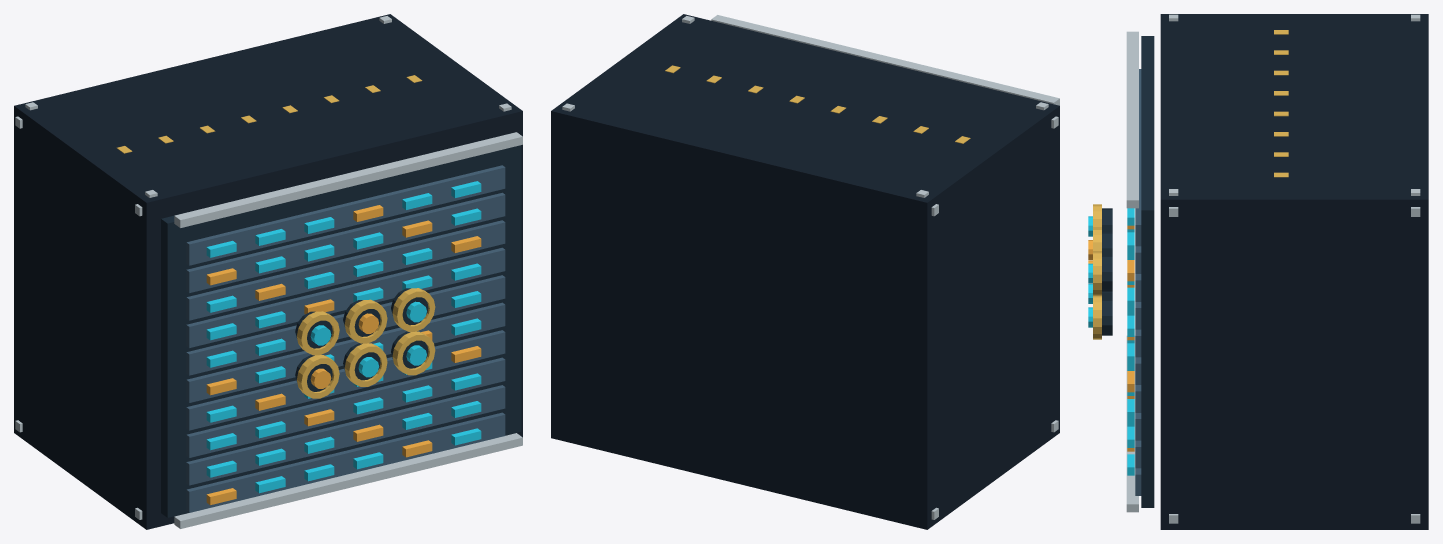
The model's file is 32_L81_TripleLaneExecutionSupervisor.fbx.
3 views of the same model, side by side, from view 1: azimuth 30°, elevation 25°; view 2: azimuth 150°, elevation 25°; view 3: azimuth 270°, elevation 25° (orthographic).
Parts seen in each view (by area): view 1: TripleLaneExecutionSupervisor; view 2: TripleLaneExecutionSupervisor; view 3: TripleLaneExecutionSupervisor.
Boxes of the visible parts, x1=… form: TripleLaneExecutionSupervisor: x1=14, y1=14, x2=522, y2=529; TripleLaneExecutionSupervisor: x1=551, y1=14, x2=1059, y2=529; TripleLaneExecutionSupervisor: x1=1088, y1=14, x2=1428, y2=529.
Bounding box in the file's own units: 120 × 99.8 × 91.45.
